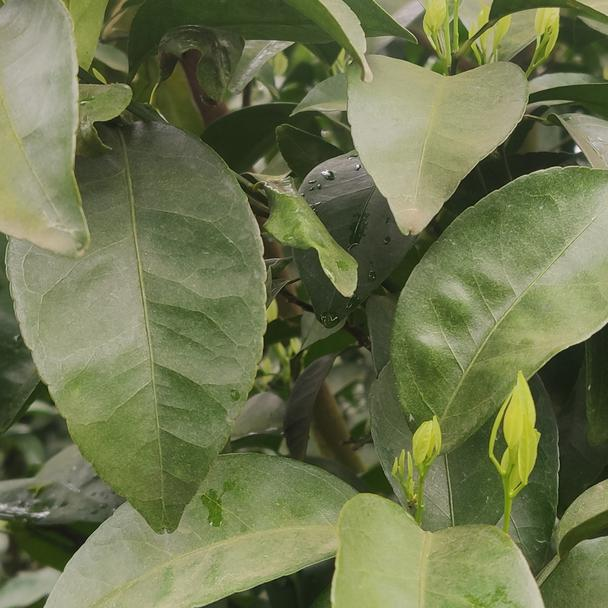shoot: (489, 382, 543, 498), (406, 417, 446, 484), (529, 5, 563, 67)
